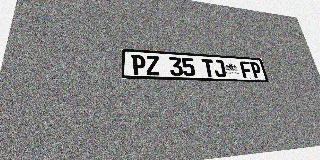plate: (121, 49, 269, 82)
